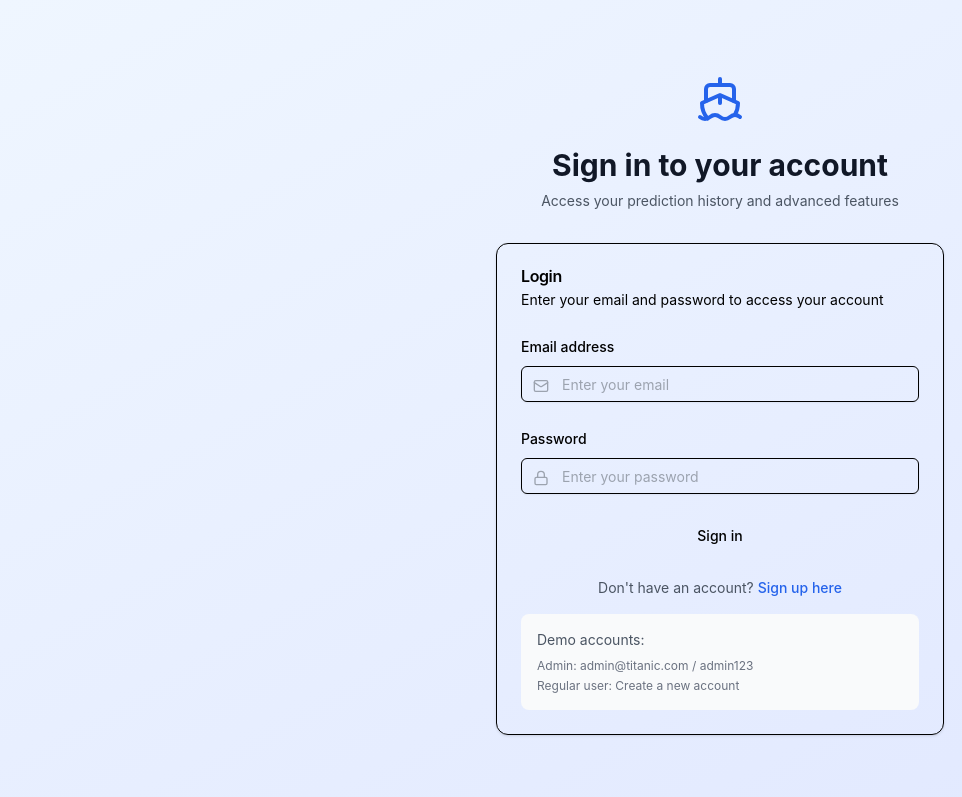
Scenario: LoginPage Component › shows error on failed login
Type "wrong@user.com" into the field labelled "Email address" at (720, 384), box top-left (521, 366), bottom-right (919, 402)
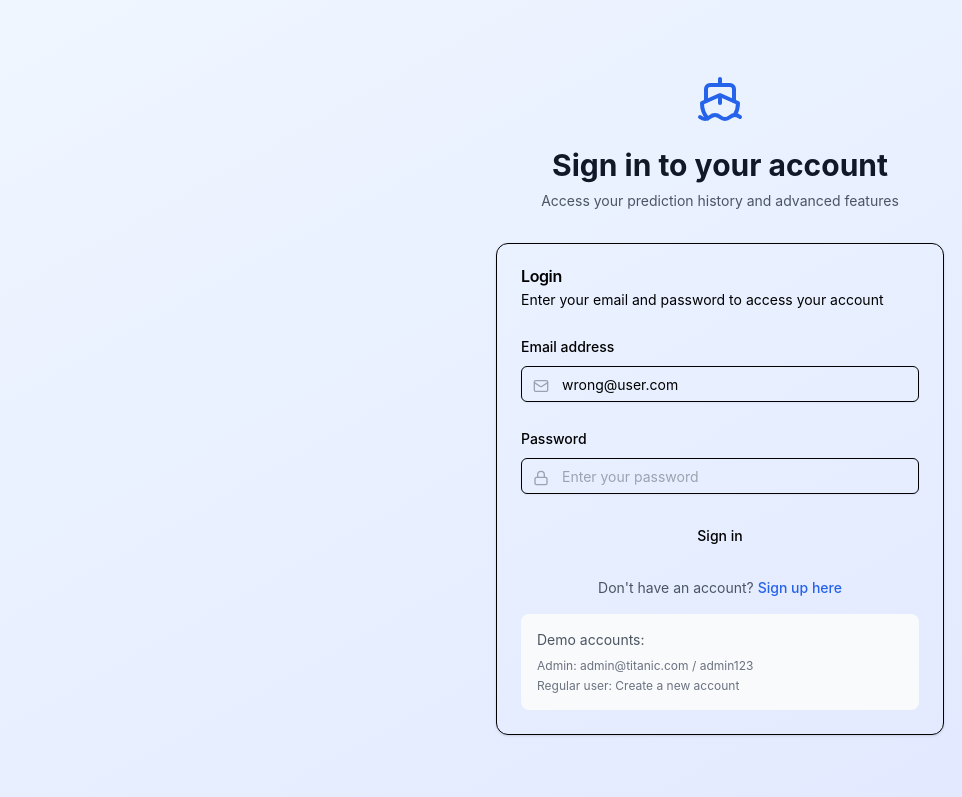
Type "wrongpass" into the password field labelled "Password" at (720, 476), box top-left (521, 458), bottom-right (919, 494)
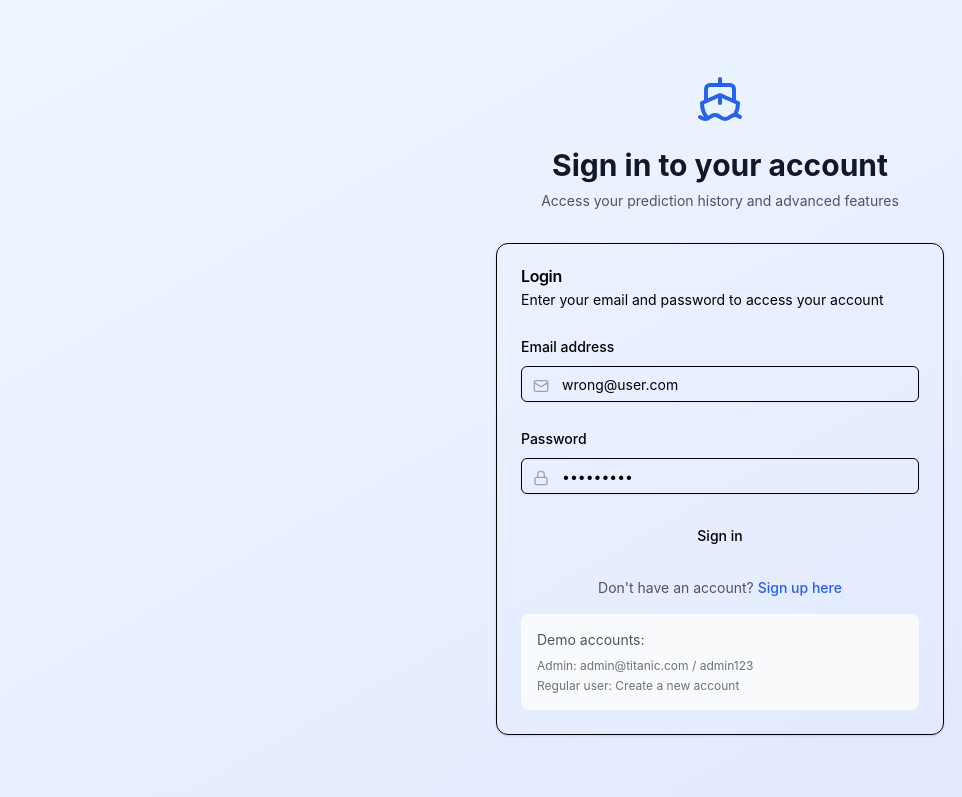
Click the button "Sign in" at (720, 536), box top-left (521, 518), bottom-right (919, 554)
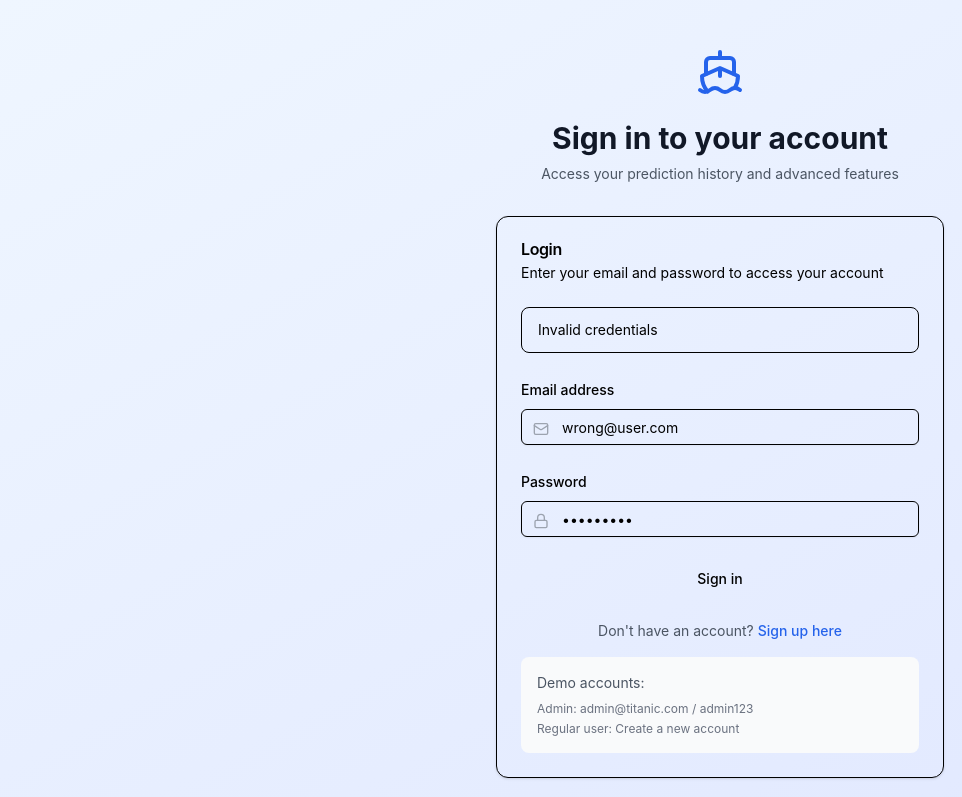
Result: the text "Invalid credentials" is shown at top-left (538, 321), bottom-right (658, 338)
